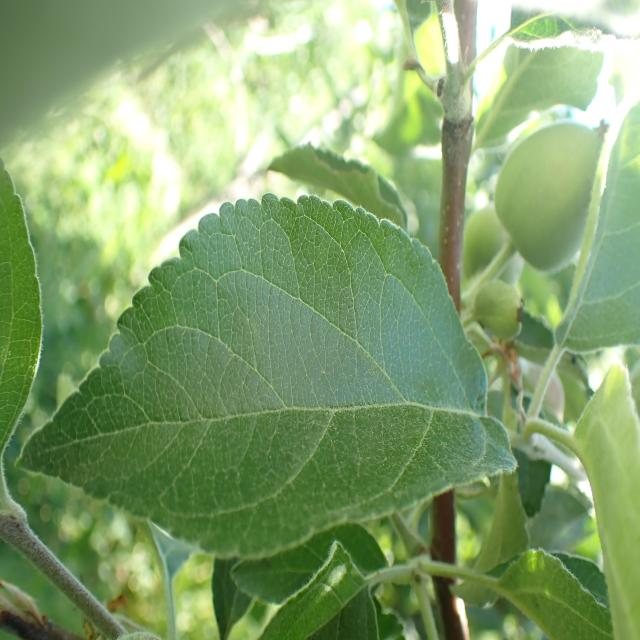healthy: (15, 192, 519, 562), (555, 100, 640, 354), (0, 157, 44, 456), (259, 540, 380, 640)
